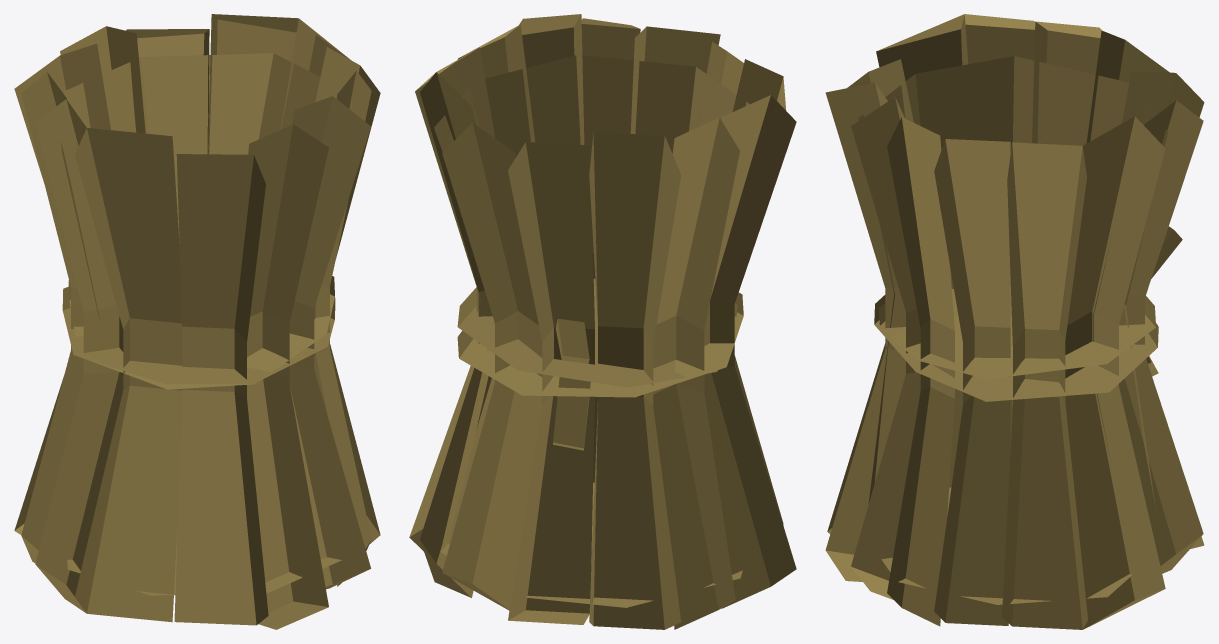
Rendered from hay.glb.
3 views of the same model, side by side, from view 1: azimuth 30°, elevation 25°; view 2: azimuth 150°, elevation 25°; view 3: azimuth 270°, elevation 25° (orthographic).
Visible parts, largest first — view 1: body; view 2: body; view 3: body.
Part boxes in pixels (x1,y1,x2,y2): body: (14,14,380,629); body: (409,14,796,629); body: (825,14,1204,629).
Bounding box in the file's own units: 0.7435 × 1.1 × 0.7674.
